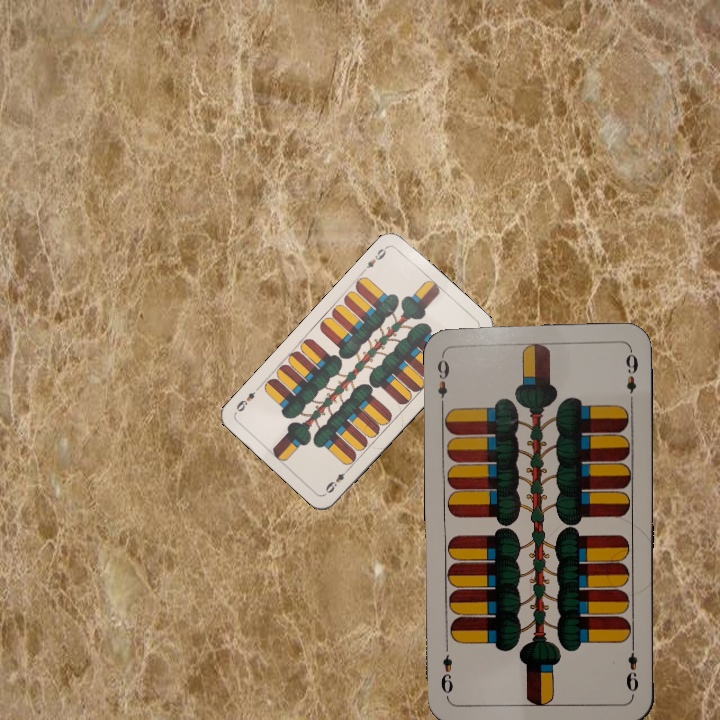E9: (433, 349, 452, 408), (622, 638, 642, 694), (358, 242, 390, 275), (322, 464, 352, 496)
